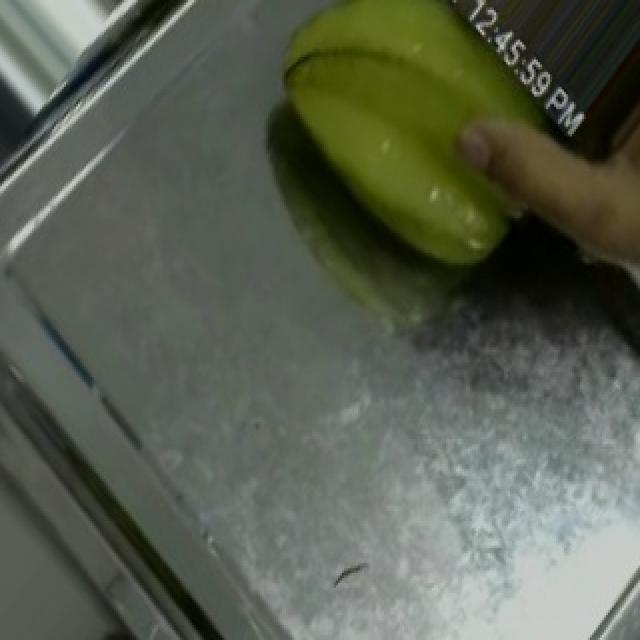fruit: (244, 0, 612, 303)
